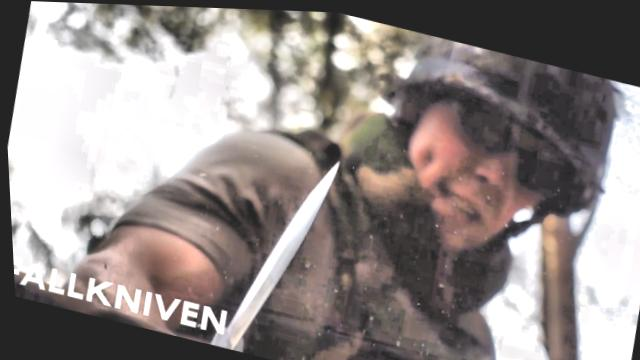knife: (197, 123, 359, 360)
